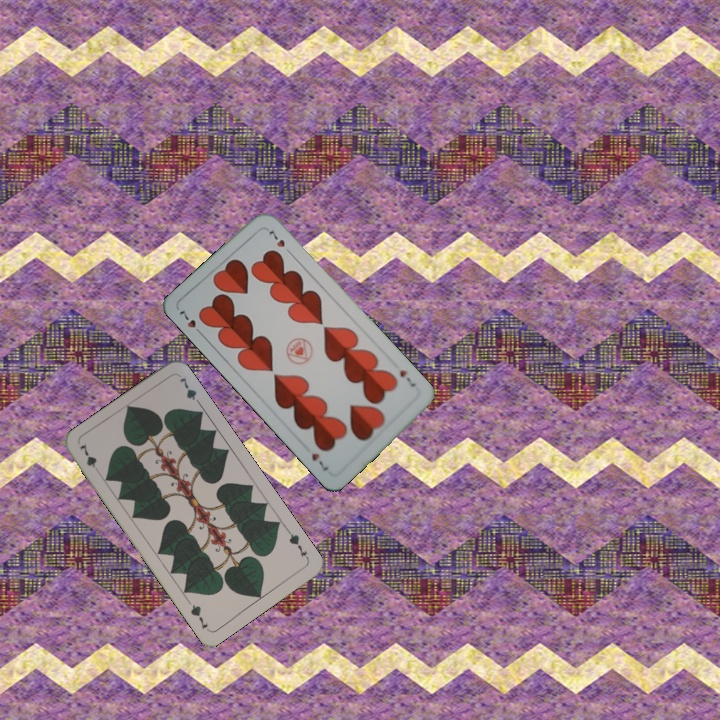G7: (75, 440, 103, 477), (283, 526, 311, 562)
H7: (175, 306, 206, 339), (396, 366, 418, 390)
